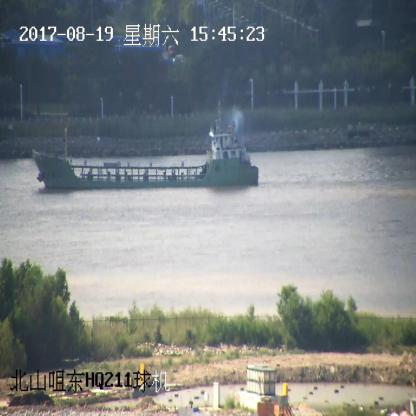Bulk Carrier: (34, 112, 258, 190)
